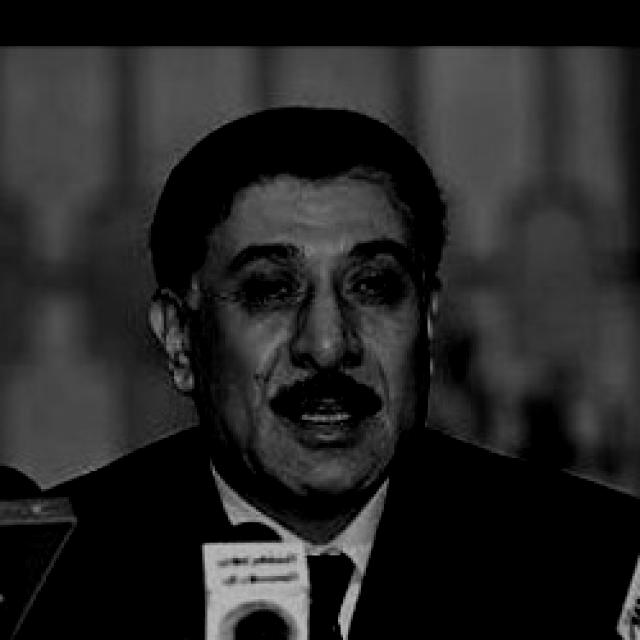real: (193, 172, 426, 494), (242, 269, 410, 322)
